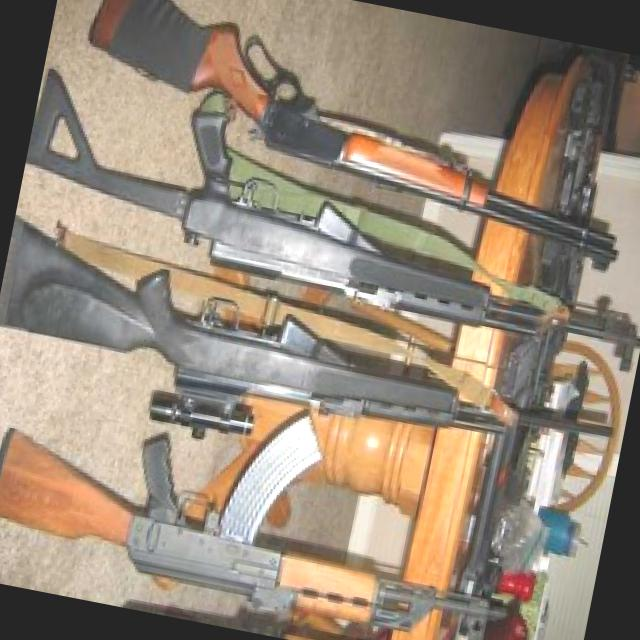long weapon: (23, 85, 640, 388), (0, 209, 614, 481), (71, 0, 635, 294), (0, 414, 549, 640)
